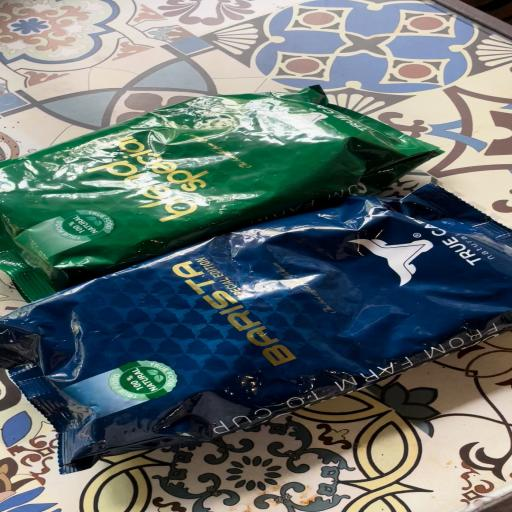cafe_hat: (0, 184, 512, 473)
cafe_xay: (0, 86, 440, 302)
